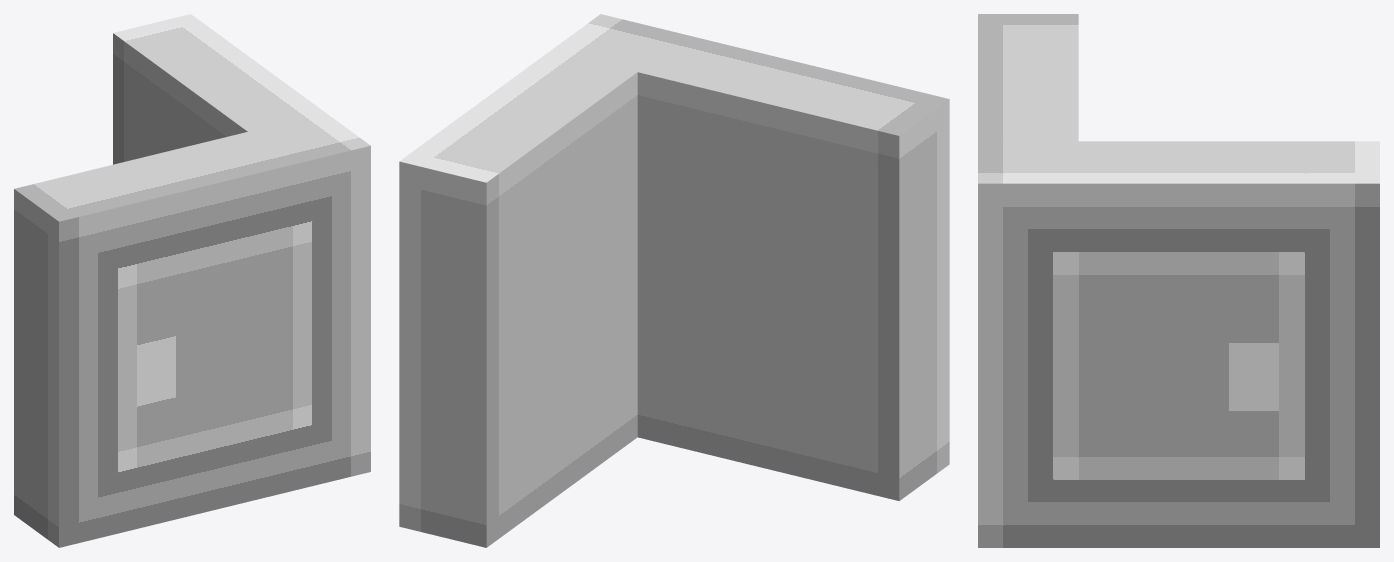
Rendered from corner_vertical_inside.obj.
The picture shows the model from 3 angles, left to right: view 1: azimuth 30°, elevation 25°; view 2: azimuth 150°, elevation 25°; view 3: azimuth 270°, elevation 25°; orthographic projection. The views are drawn at different scales.
Size of the model in its own units: 1 by 1 by 1.
